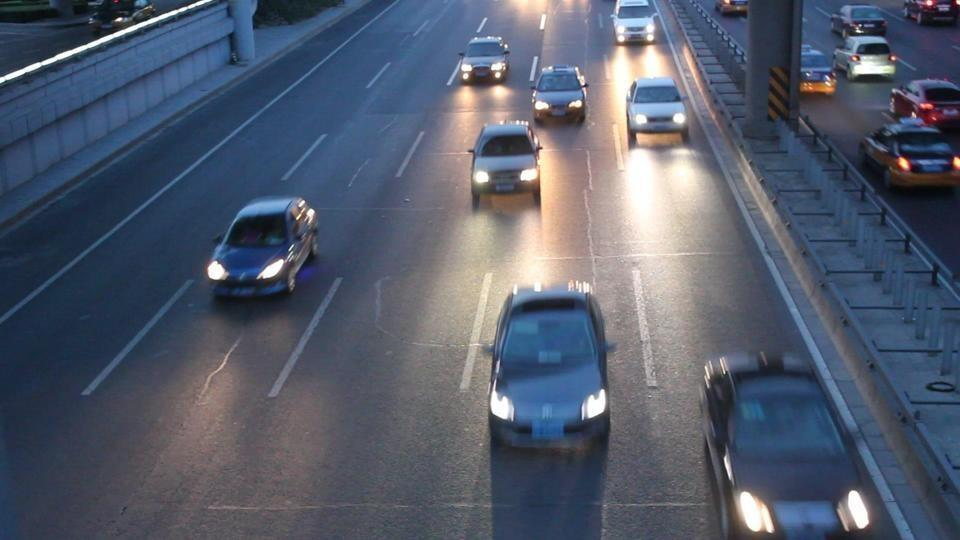car: (700, 349, 884, 538), (486, 282, 612, 452), (205, 195, 320, 299), (859, 119, 960, 191), (469, 122, 544, 205), (625, 76, 689, 148), (889, 78, 960, 130), (531, 66, 588, 125), (833, 35, 898, 82), (456, 36, 512, 84), (87, 0, 156, 36), (609, 0, 660, 46), (829, 5, 891, 40), (798, 43, 837, 96)
